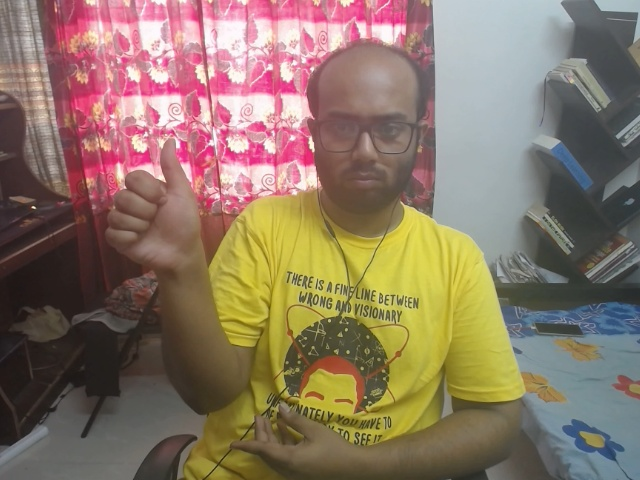six: (108, 126, 225, 274)
